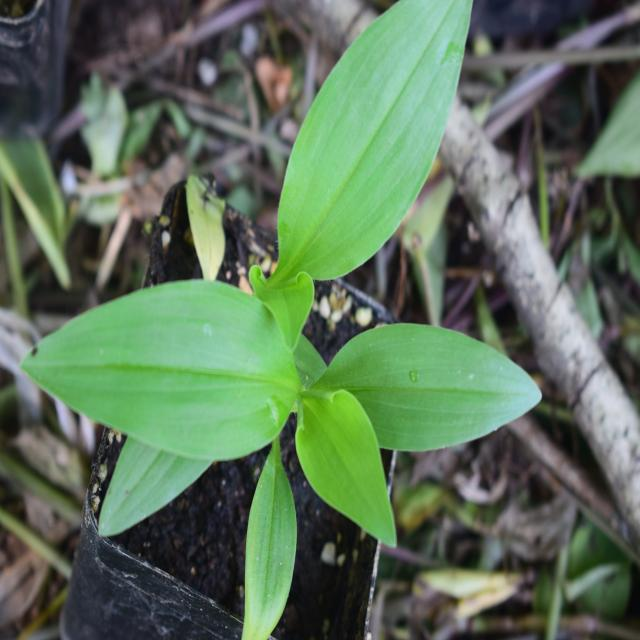Common Dayflower: (14, 276, 553, 560), (267, 0, 493, 270)
